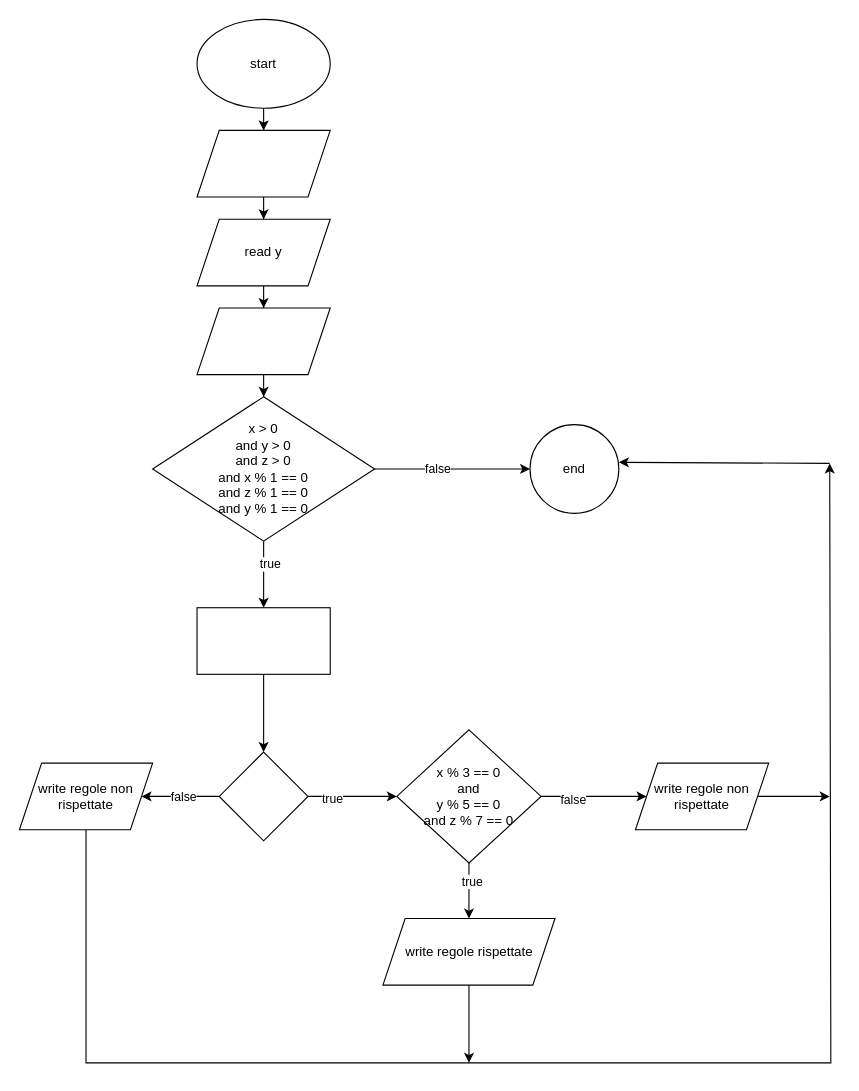
Some shapes in this 859 by 1091 pixel diagram are drawn without their labels. Each missing label, with the box of its shape:
read x: (196, 129, 330, 197)
read z: (196, 307, 330, 375)
sum % 2 == 0: (218, 751, 308, 841)
sum = x + y + z: (196, 607, 330, 674)
